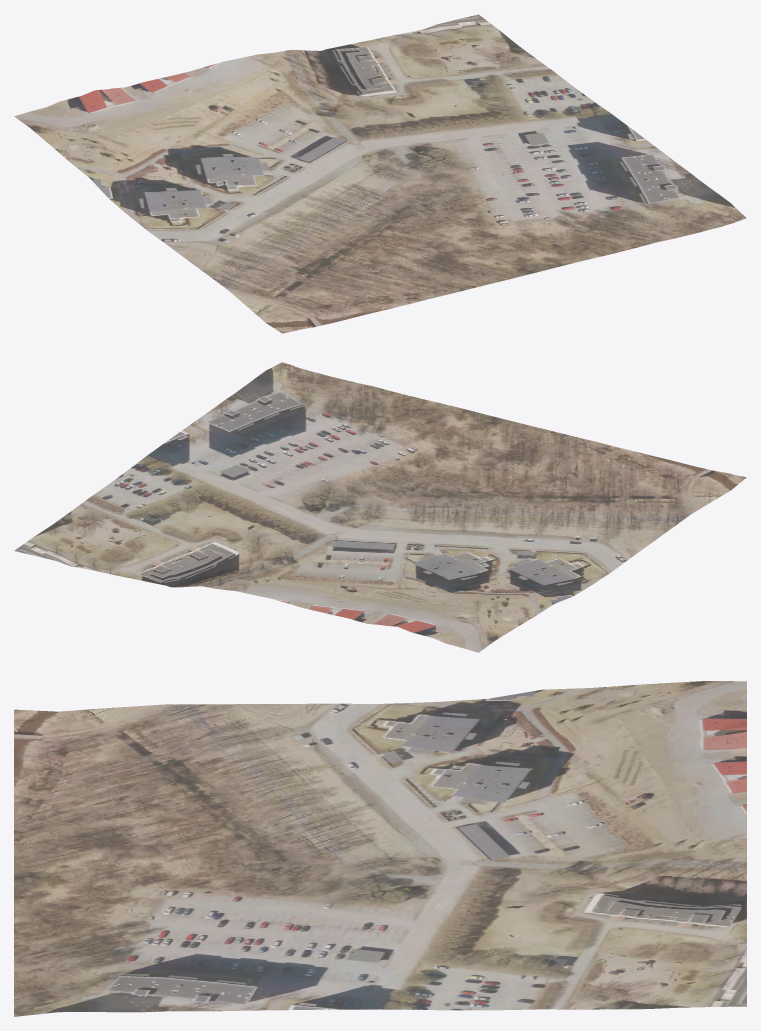
The model's file is CM_Terrain_24492711_6817746.fbx.
3 views of the same model, one above another, from view 1: azimuth 30°, elevation 25°; view 2: azimuth 150°, elevation 25°; view 3: azimuth 270°, elevation 25° (orthographic). The views are drawn at different scales.
Parts seen in each view (by area): view 1: CM_Terrain_24492711_6817746_LOD0; view 2: CM_Terrain_24492711_6817746_LOD0; view 3: CM_Terrain_24492711_6817746_LOD0.
Part boxes in pixels (<box>): CM_Terrain_24492711_6817746_LOD0: <box>14,14,746,333</box>; CM_Terrain_24492711_6817746_LOD0: <box>14,362,746,652</box>; CM_Terrain_24492711_6817746_LOD0: <box>14,681,746,1016</box>.
Size of what is drawn, in the model's own units: 205 by 12.18 by 205.
